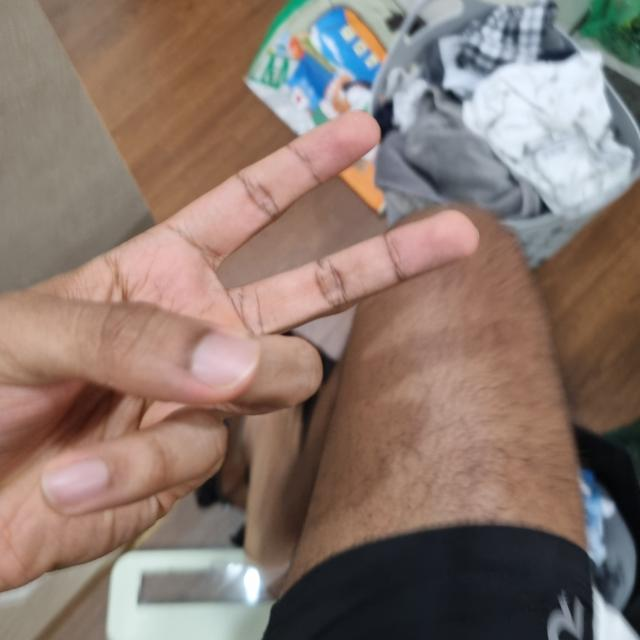Scissors: (0, 101, 640, 638)
